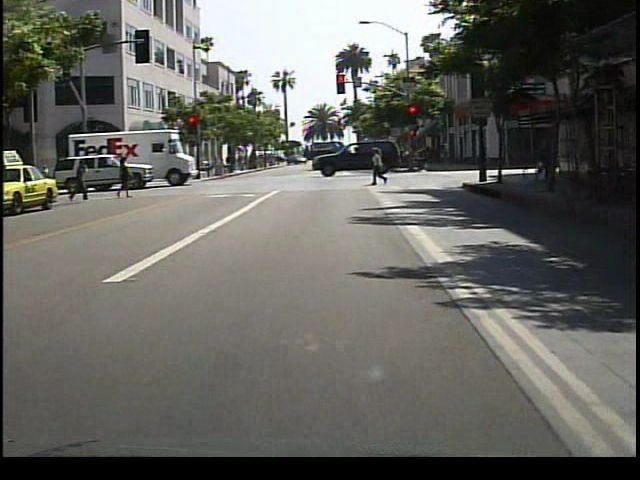person: (534, 135, 562, 190), (70, 157, 92, 205), (368, 145, 392, 187), (113, 153, 134, 201)
